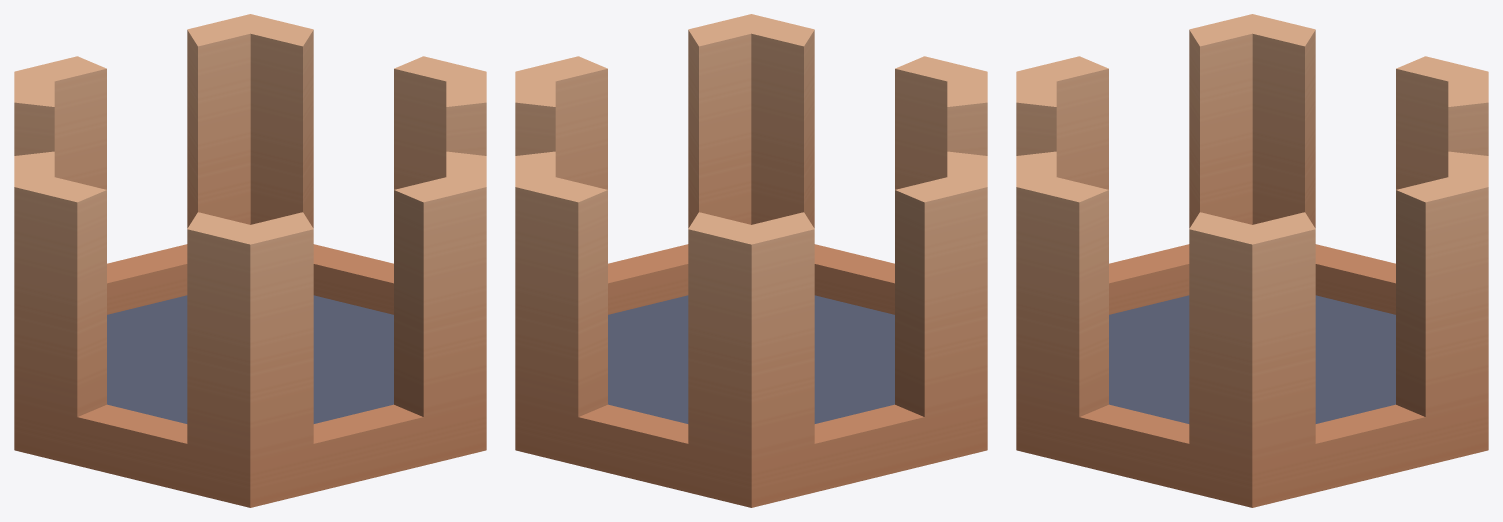
The model's file is tower-hexagon-top-wood.fbx.
3 renders of one model, left to right at view 1: azimuth 30°, elevation 25°; view 2: azimuth 150°, elevation 25°; view 3: azimuth 270°, elevation 25°, orthographic.
Parts seen in each view (by area): view 1: tower-hexagon-top-wood; view 2: tower-hexagon-top-wood; view 3: tower-hexagon-top-wood.
Boxes of the visible parts, x1,y1,x2,y2 form: tower-hexagon-top-wood: (14, 14, 486, 507); tower-hexagon-top-wood: (515, 14, 987, 507); tower-hexagon-top-wood: (1016, 14, 1488, 507).
Size of the model in its own units: 0.864 by 0.7482 by 0.46.
